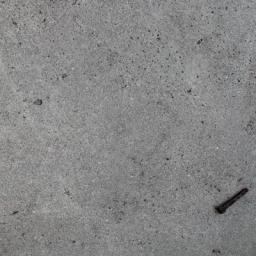FOD: (213, 187, 251, 217)
